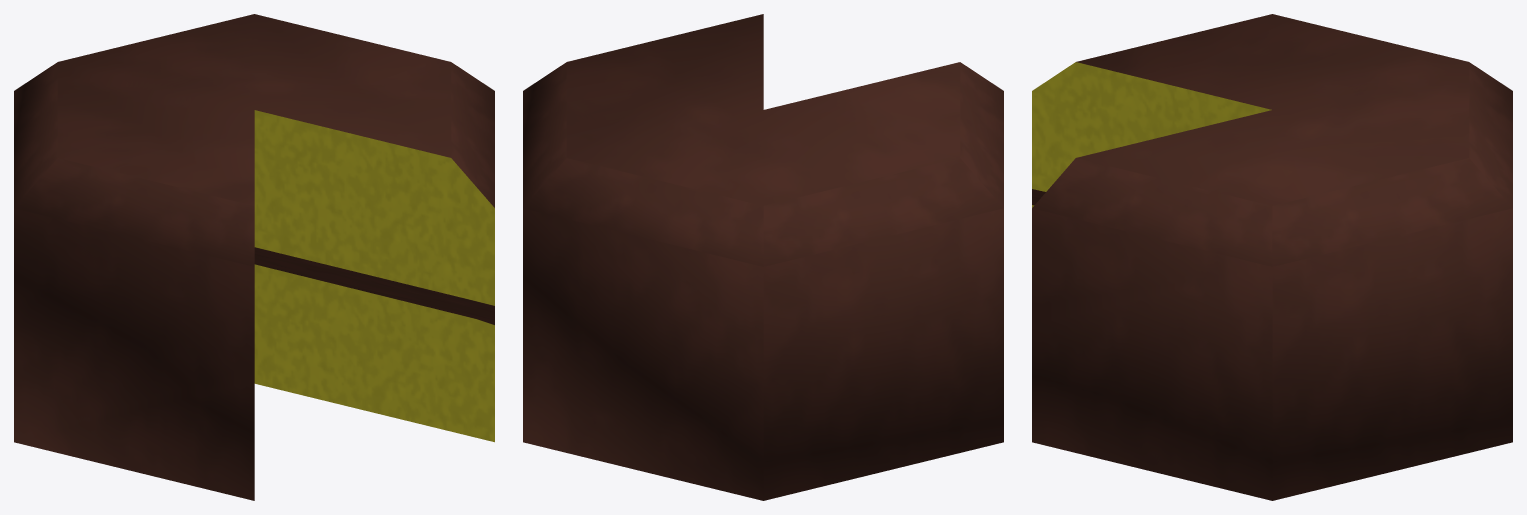
File: Cake_Sliced_A.FBX
3 renders of one model, left to right at view 1: azimuth 30°, elevation 25°; view 2: azimuth 150°, elevation 25°; view 3: azimuth 270°, elevation 25°, orthographic.
Parts seen in each view (by area): view 1: Cake_E; view 2: Cake_E; view 3: Cake_E.
Boxes of the visible parts, box(x1,y1,x2,y2) form: Cake_E: box(14, 14, 494, 500); Cake_E: box(523, 14, 1003, 500); Cake_E: box(1032, 14, 1512, 500).
Bounding box in the file's own units: 102 × 55.58 × 88.51.
